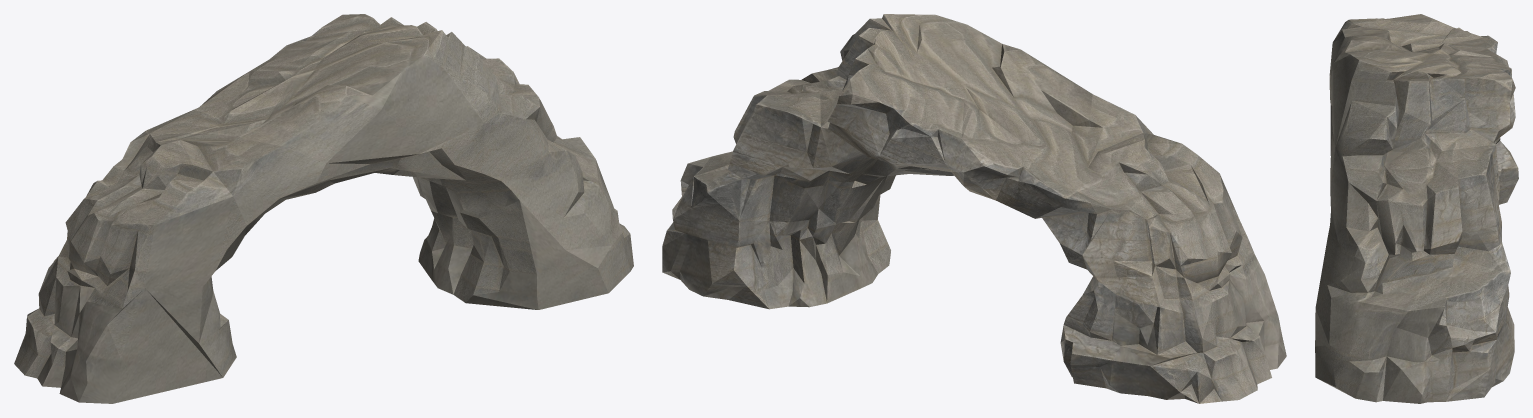
File: co_sedimentary_arch.glb
The picture shows the model from 3 angles, left to right: view 1: azimuth 30°, elevation 25°; view 2: azimuth 150°, elevation 25°; view 3: azimuth 270°, elevation 25°; orthographic projection. The views are drawn at different scales.
Parts seen in each view (by area): view 1: output_unwrapped; view 2: output_unwrapped; view 3: output_unwrapped.
Boxes of the visible parts, left/top/right/bottom form: output_unwrapped: left=14, top=14, right=633, bottom=403; output_unwrapped: left=662, top=14, right=1286, bottom=403; output_unwrapped: left=1315, top=14, right=1518, bottom=403.
Size of the model in its own units: 1.9 by 0.8262 by 0.6157.
1 material, 1 textured.
